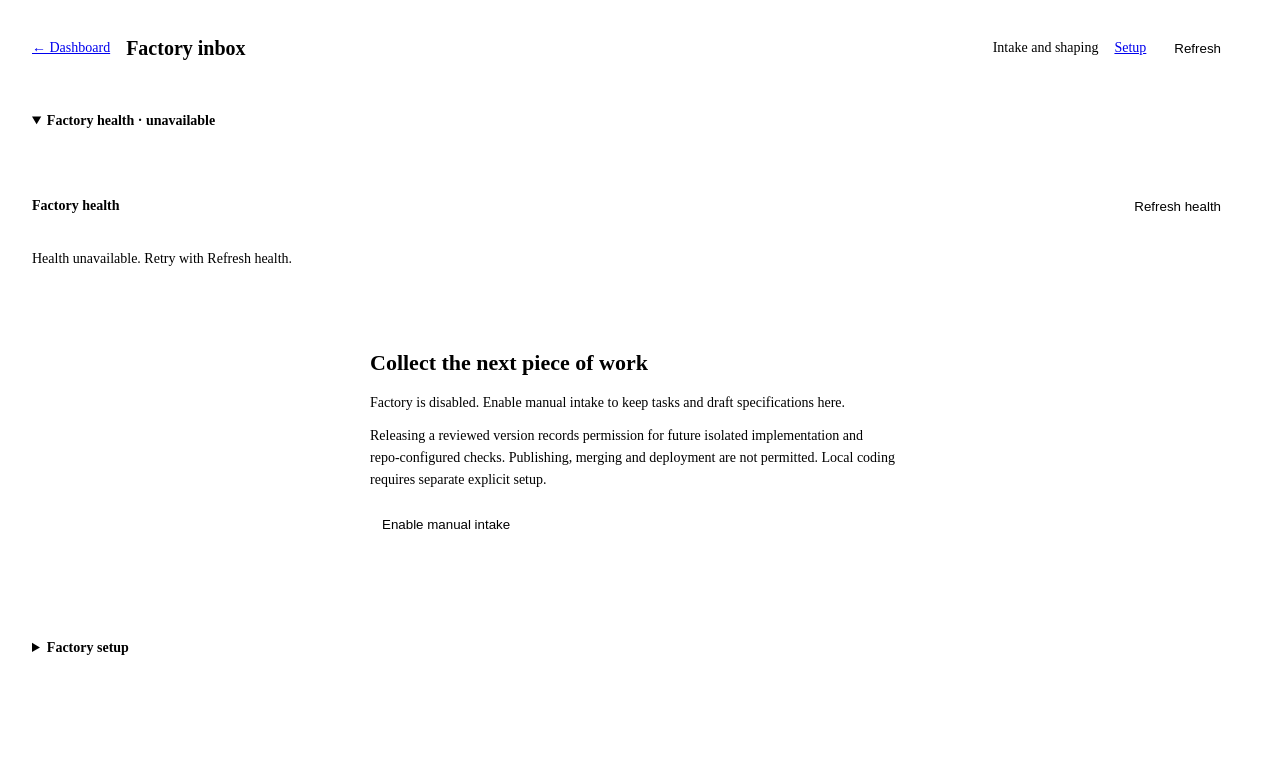
Test case: explains disabled mode, then enables real typed intake config
Click the button "Enable manual intake" at (446,524), box left=370, top=502, right=522, bottom=546
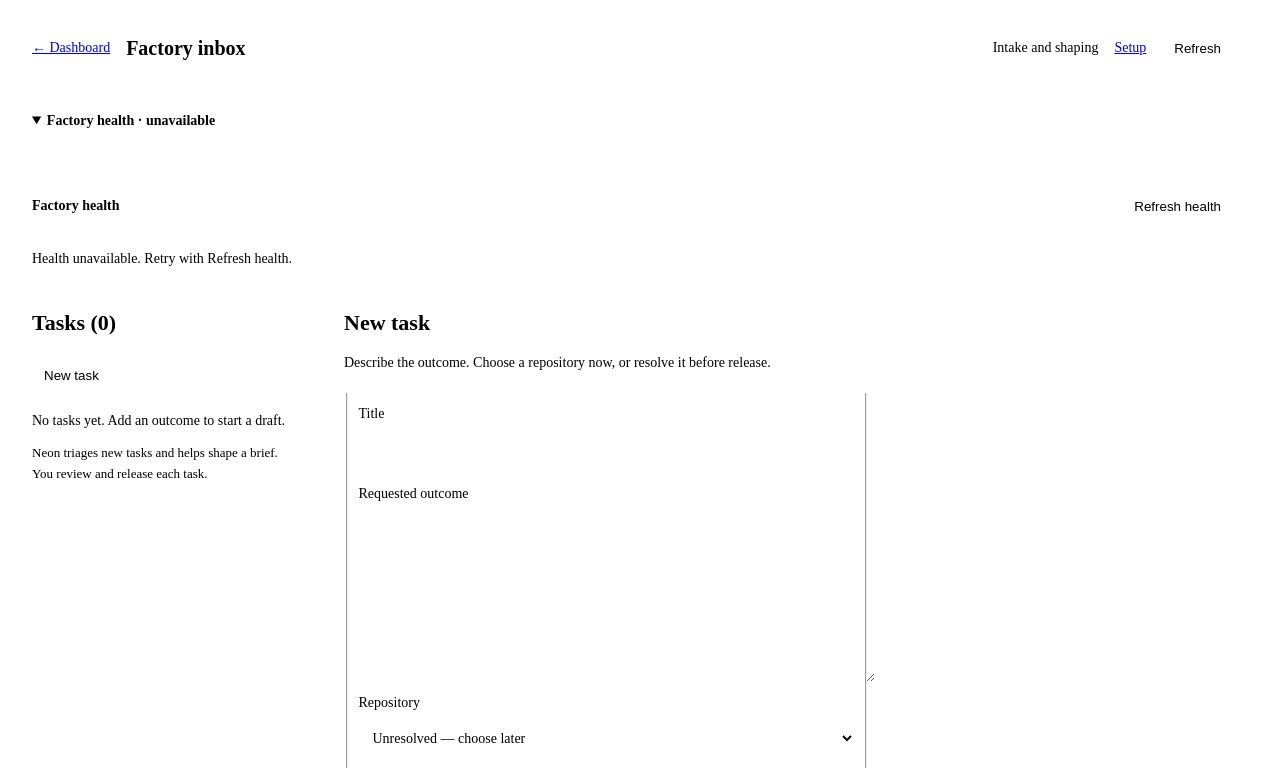
Expected: the text "No tasks yet" is shown, left=32, top=413, right=285, bottom=428
